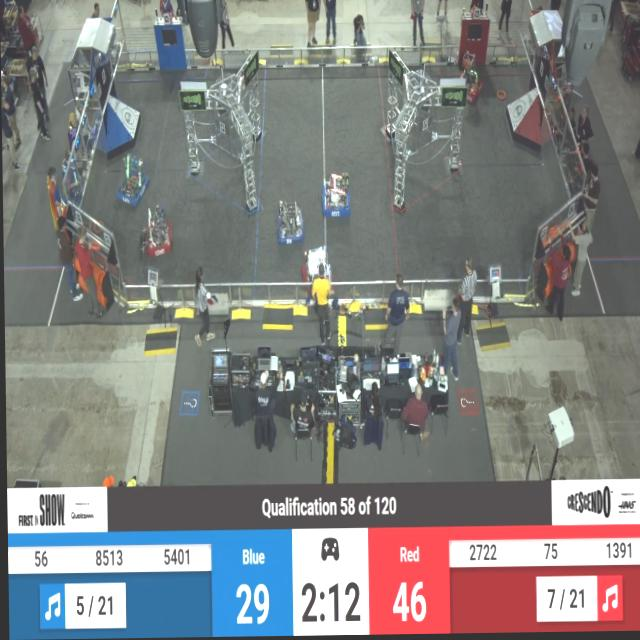Robot: (139, 202, 173, 262), (116, 153, 151, 211), (300, 239, 333, 300), (457, 46, 485, 113), (275, 198, 305, 249), (321, 170, 351, 221)
